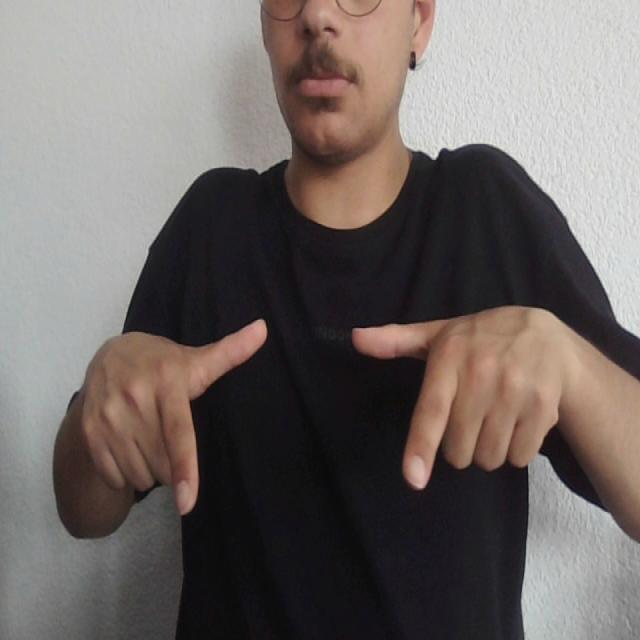Nerede: (158, 296, 467, 522)
